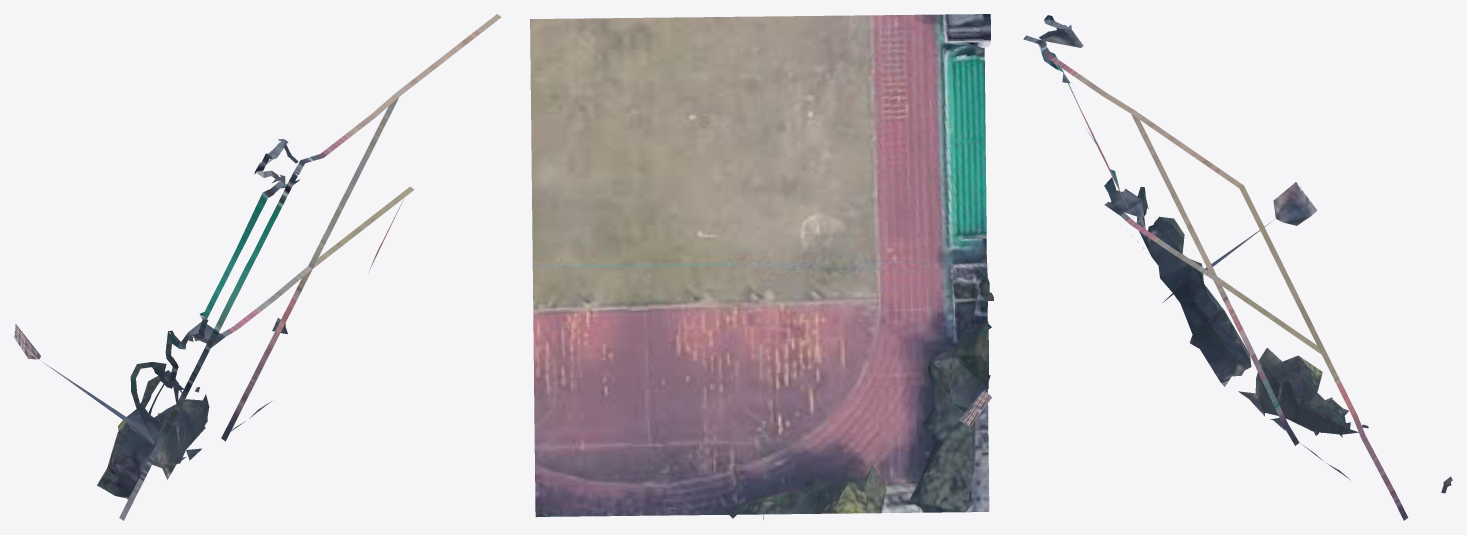
The picture shows the model from 3 angles, left to right: view 1: azimuth 30°, elevation 25°; view 2: azimuth 150°, elevation 25°; view 3: azimuth 270°, elevation 25°; orthographic projection. The views are drawn at different scales.
Size of the model in its own units: 85.67 by 72.1 by 71.79.
Materials: 1 (1 with a texture image).
